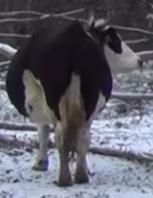cow: (7, 19, 144, 186)
